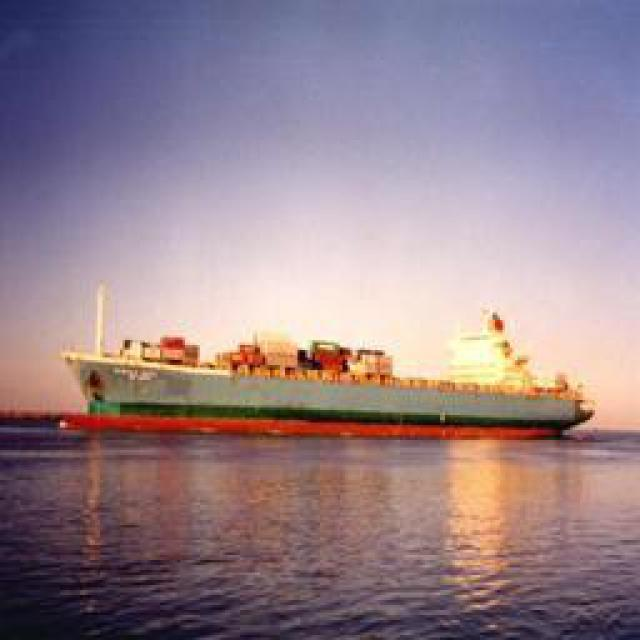Ship: (48, 291, 596, 436)
